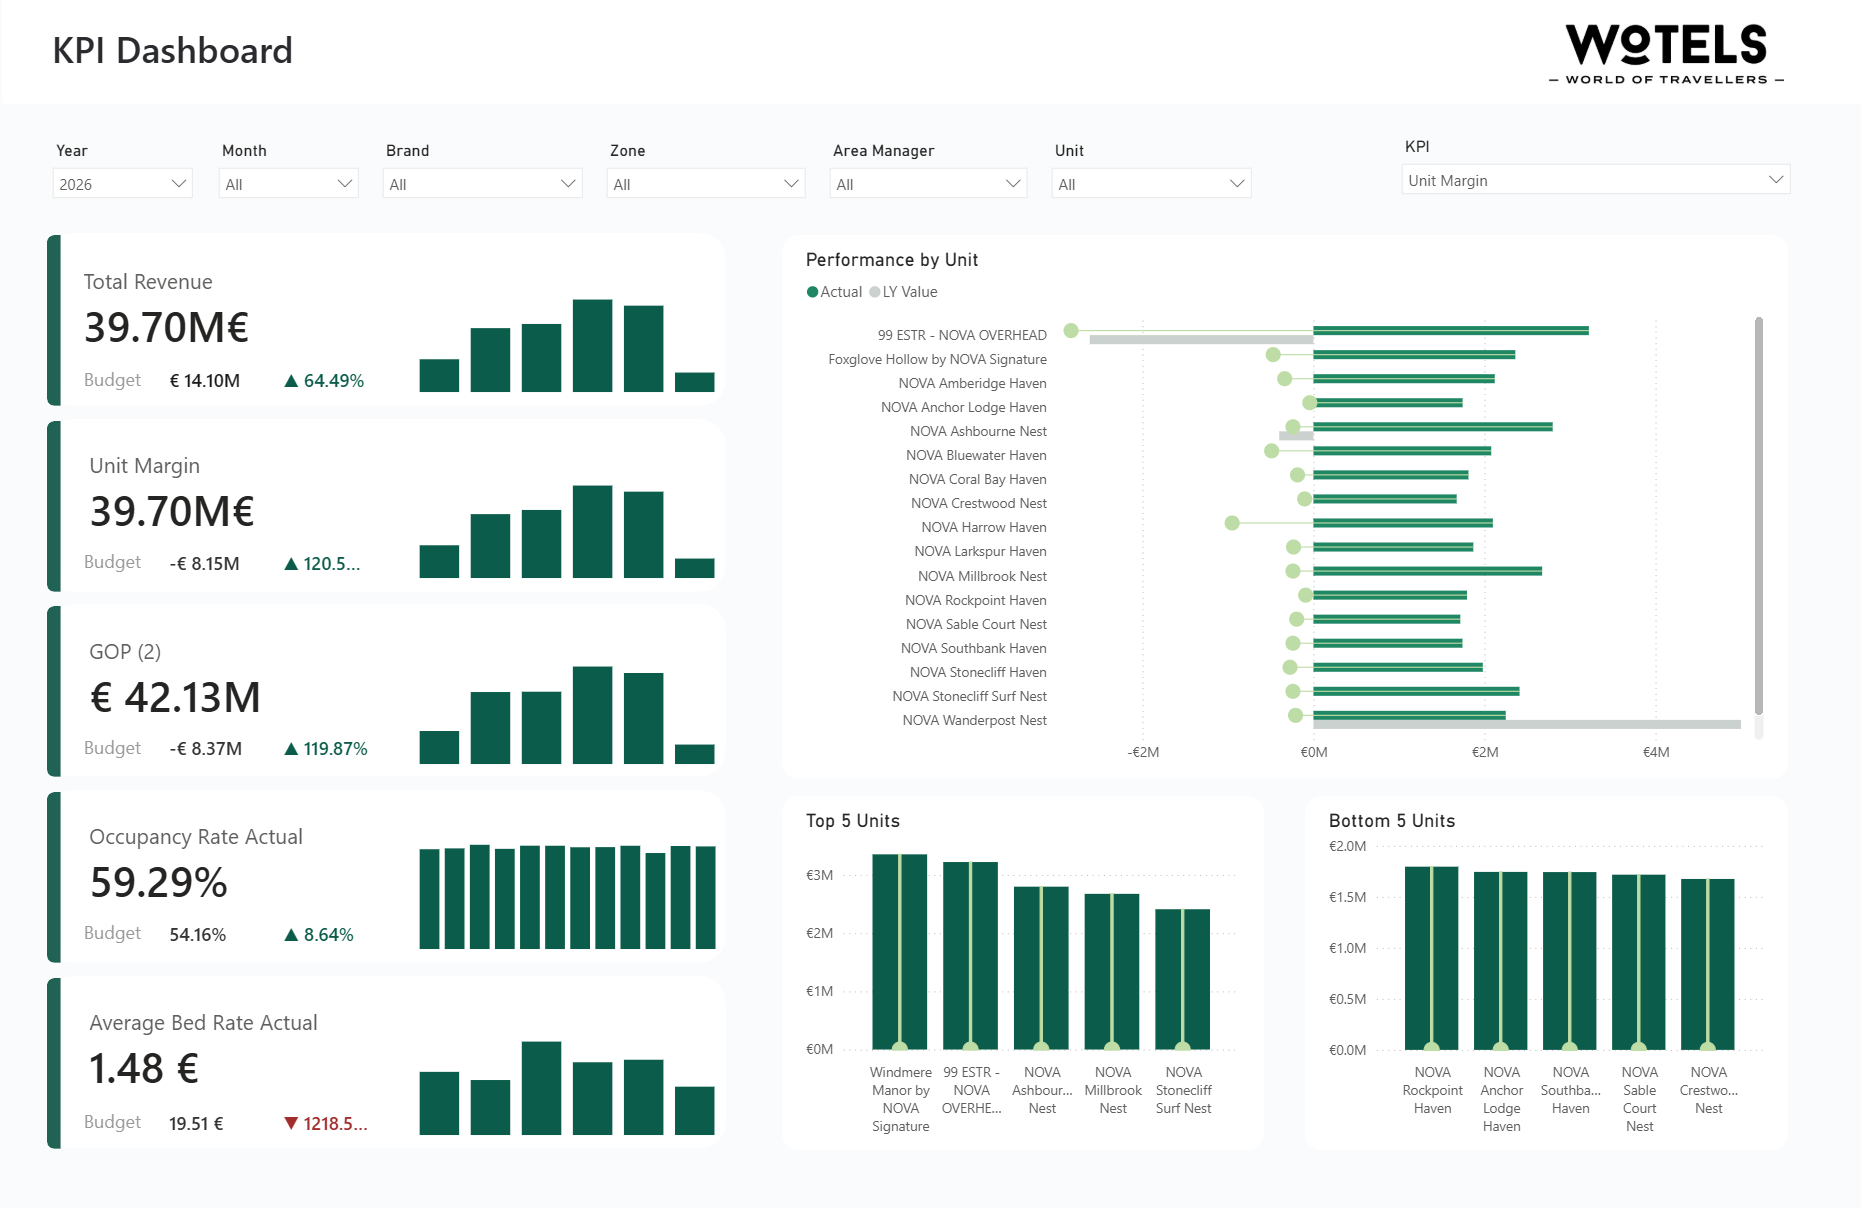

What the dashboard file says about the page in this screenshot:
{"tool":"powerbi","page":{"name":"KPIs Dashboard","canvas":[1650,1080],"ordinal":0},"visuals":[{"type":"group","id":"g1","title":"Background Shapes","box":[1.4,0,1918.2,97.7],"z":0},{"type":"shape","box":[1.4,0,1918.2,95.9],"z":1000,"group":"g1"},{"type":"slicer","fields":{"Values":["DateTable.Year"]},"box":[41.7,124.3,139.3,72.4],"z":1000},{"type":"image","box":[1365.2,1.8,213.5,95.9],"z":2000,"group":"g1"},{"type":"shape","box":[41.9,210.3,600,152.8],"z":2000},{"type":"textbox","box":[40.5,19.9,244.3,61.5],"z":3000,"group":"g1"},{"type":"shape","box":[41.9,374.4,600,152.8],"z":3000},{"type":"shape","box":[41.9,538.5,600,152.8],"z":4000},{"type":"shape","box":[41.9,702.6,600,152.8],"z":5000},{"type":"shape","box":[41.9,866.7,600,152.8],"z":6000},{"type":"shape","box":[41.9,212.1,12.4,151],"z":7000},{"type":"clusteredBarChart","title":"Performance by Unit","fields":{"Category":["units.Unit Description"],"Y":["KPI Table.Actual Value","KPI Table.LY Value"]},"box":[691,211.7,888.5,481.4],"z":8000},{"type":"shape","box":[41.9,376.2,12.4,151],"z":9000},{"type":"shape","box":[41.9,540.3,12.4,151],"z":10000},{"type":"shape","box":[41.9,704.4,12.4,151],"z":11000},{"type":"shape","box":[41.9,868.4,12.4,151],"z":12000},{"type":"cardVisual","fields":{"Data":["OccupancyKPIs.Rendimentos Actual"]},"box":[62.2,223.1,315,105],"z":13000},{"type":"lineClusteredColumnComboChart","title":"Top 5 Units","fields":{"Category":["units.Unit Description"],"Y":["KPI Table.Actual Value"]},"box":[691.3,707.6,426,313.1],"z":14000},{"type":"cardVisual","fields":{"Data":["OccupancyKPIs.Unit Margin Actual"]},"box":[62.2,387.2,315,105],"z":15000},{"type":"cardVisual","fields":{"Data":["OccupancyKPIs.GOP (2) Actual"]},"box":[62.2,551.3,315,105],"z":16000},{"type":"cardVisual","fields":{"Data":["OccupancyKPIs.Occupancy Rate Actual"]},"box":[62.2,715.4,315,105],"z":17000},{"type":"cardVisual","fields":{"Data":["OccupancyKPIs.Average Bed Rate Actual"]},"box":[62.2,879.5,315,105],"z":18000},{"type":"textbox","box":[68.8,323.1,121.7,31.7],"z":19000},{"type":"textbox","box":[68.8,484.4,121.7,31.7],"z":20000},{"type":"textbox","box":[68.8,648.5,121.7,31.7],"z":21000},{"type":"textbox","box":[68.8,812.6,121.7,31.7],"z":22000},{"type":"textbox","box":[68.8,979.5,121.7,31.7],"z":23000},{"type":"cardVisual","fields":{"Data":["OccupancyKPIs.Rendimentos Budget","OccupancyKPIs.Rendimentos Variance %"]},"box":[132.9,317.5,212.8,42.9],"z":24000},{"type":"cardVisual","fields":{"Data":["OccupancyKPIs.Unit Margin Budget","OccupancyKPIs.Unit Margin Variance %"]},"box":[132.9,478.8,212.8,42.9],"z":25000},{"type":"cardVisual","fields":{"Data":["OccupancyKPIs.GOP (2) Budget","OccupancyKPIs.GOP (2) Variance %"]},"box":[132.9,642.9,212.8,42.9],"z":26000},{"type":"cardVisual","fields":{"Data":["OccupancyKPIs.Occupancy Rate Budget","OccupancyKPIs.Occupancy Rate Variance"]},"box":[132.9,807,212.8,42.9],"z":27000},{"type":"cardVisual","fields":{"Data":["OccupancyKPIs.Average Bed Rate Budget","OccupancyKPIs.ABR Variance %"]},"box":[132.9,973.9,212.8,42.9],"z":28000},{"type":"clusteredColumnChart","fields":{"Category":["DateTable.Month Short"],"Y":["OccupancyKPIs.Rendimentos Actual"]},"box":[366,216.1,271.8,141.3],"z":29000},{"type":"clusteredColumnChart","fields":{"Category":["DateTable.Month Short"],"Y":["OccupancyKPIs.Unit Margin Actual"]},"box":[366,380.1,271.8,141.3],"z":30000},{"type":"clusteredColumnChart","fields":{"Category":["DateTable.Month Short"],"Y":["OccupancyKPIs.GOP (2) Actual"]},"box":[366,544.2,271.8,141.3],"z":31000},{"type":"clusteredColumnChart","fields":{"Category":["DateTable.Month Short"],"Y":["OccupancyKPIs.Occupancy Rate Actual"]},"box":[366,708.3,271.8,141.3],"z":32000},{"type":"clusteredColumnChart","fields":{"Category":["DateTable.Month Short"],"Y":["OccupancyKPIs.Average Bed Rate Actual"]},"box":[366,872.4,271.8,141.3],"z":33000},{"type":"slicer","title":"KPI","fields":{"Values":["KPI Table.KPI"]},"box":[1234.2,121.2,363.7,79.6],"z":34000},{"type":"slicer","fields":{"Values":["DateTable.Month Name"]},"box":[188.1,124.3,139.3,72.4],"z":35000},{"type":"slicer","fields":{"Values":["units.Brands"]},"box":[333.5,124.3,191.8,72.4],"z":36000},{"type":"slicer","fields":{"Values":["units.ZONE"]},"box":[531.5,124.3,191,72.4],"z":37000},{"type":"slicer","fields":{"Values":["units.Area Manager"]},"box":[728.6,124.3,190,72.4],"z":38000},{"type":"lineClusteredColumnComboChart","title":"Bottom 5 Units","fields":{"Category":["units.Unit Description"],"Y":["KPI Table.Actual Value"]},"box":[1153.5,708,426.7,313.4],"z":39000},{"type":"slicer","fields":{"Values":["units.CODE ID"]},"box":[924.7,124.3,191.8,72.4],"z":40000}]}

Visuals, with their boxes in screenshot pixels (x1, y1, x2, y2), scaled from the page's 1650x1080 canvas onto the 1861x1208 screenshot:
"Background Shapes" group: (2, 0, 1860, 109)
shape: (2, 0, 1860, 107)
slicer - DateTable.Year: (47, 139, 204, 220)
image: (1540, 2, 1781, 109)
shape: (47, 235, 724, 406)
textbox: (46, 22, 321, 91)
shape: (47, 419, 724, 590)
shape: (47, 602, 724, 773)
shape: (47, 786, 724, 957)
shape: (47, 969, 724, 1140)
shape: (47, 237, 61, 406)
"Performance by Unit" clusteredBarChart: (779, 237, 1781, 775)
shape: (47, 421, 61, 590)
shape: (47, 604, 61, 773)
shape: (47, 788, 61, 957)
shape: (47, 971, 61, 1140)
cardVisual - OccupancyKPIs.Rendimentos Actual: (70, 250, 425, 367)
"Top 5 Units" lineClusteredColumnComboChart: (780, 791, 1260, 1142)
cardVisual - OccupancyKPIs.Unit Margin Actual: (70, 433, 425, 551)
cardVisual - OccupancyKPIs.GOP (2) Actual: (70, 617, 425, 734)
cardVisual - OccupancyKPIs.Occupancy Rate Actual: (70, 800, 425, 918)
cardVisual - OccupancyKPIs.Average Bed Rate Actual: (70, 984, 425, 1101)
textbox: (78, 361, 215, 397)
textbox: (78, 542, 215, 577)
textbox: (78, 725, 215, 761)
textbox: (78, 909, 215, 944)
textbox: (78, 1096, 215, 1131)
cardVisual - OccupancyKPIs.Rendimentos Budget x OccupancyKPIs.Rendimentos Variance %: (150, 355, 390, 403)
cardVisual - OccupancyKPIs.Unit Margin Budget x OccupancyKPIs.Unit Margin Variance %: (150, 536, 390, 584)
cardVisual - OccupancyKPIs.GOP (2) Budget x OccupancyKPIs.GOP (2) Variance %: (150, 719, 390, 767)
cardVisual - OccupancyKPIs.Occupancy Rate Budget x OccupancyKPIs.Occupancy Rate Variance: (150, 903, 390, 951)
cardVisual - OccupancyKPIs.Average Bed Rate Budget x OccupancyKPIs.ABR Variance %: (150, 1089, 390, 1137)
clusteredColumnChart - DateTable.Month Short x OccupancyKPIs.Rendimentos Actual: (413, 242, 719, 400)
clusteredColumnChart - DateTable.Month Short x OccupancyKPIs.Unit Margin Actual: (413, 425, 719, 583)
clusteredColumnChart - DateTable.Month Short x OccupancyKPIs.GOP (2) Actual: (413, 609, 719, 767)
clusteredColumnChart - DateTable.Month Short x OccupancyKPIs.Occupancy Rate Actual: (413, 792, 719, 950)
clusteredColumnChart - DateTable.Month Short x OccupancyKPIs.Average Bed Rate Actual: (413, 976, 719, 1134)
"KPI" slicer: (1392, 136, 1802, 225)
slicer - DateTable.Month Name: (212, 139, 369, 220)
slicer - units.Brands: (376, 139, 592, 220)
slicer - units.ZONE: (599, 139, 815, 220)
slicer - units.Area Manager: (822, 139, 1036, 220)
"Bottom 5 Units" lineClusteredColumnComboChart: (1301, 792, 1782, 1142)
slicer - units.CODE ID: (1043, 139, 1259, 220)
